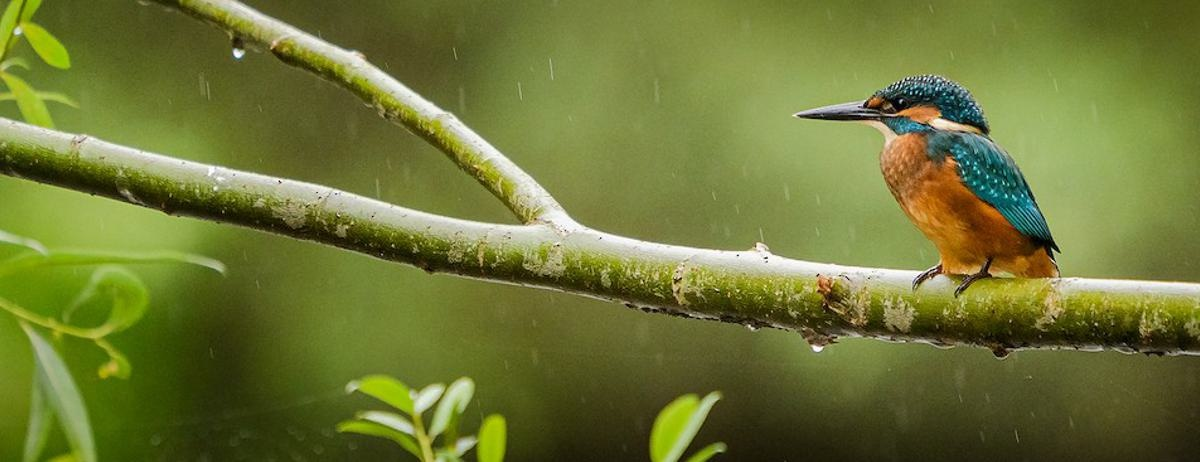kingfisher: (794, 66, 1120, 315)
